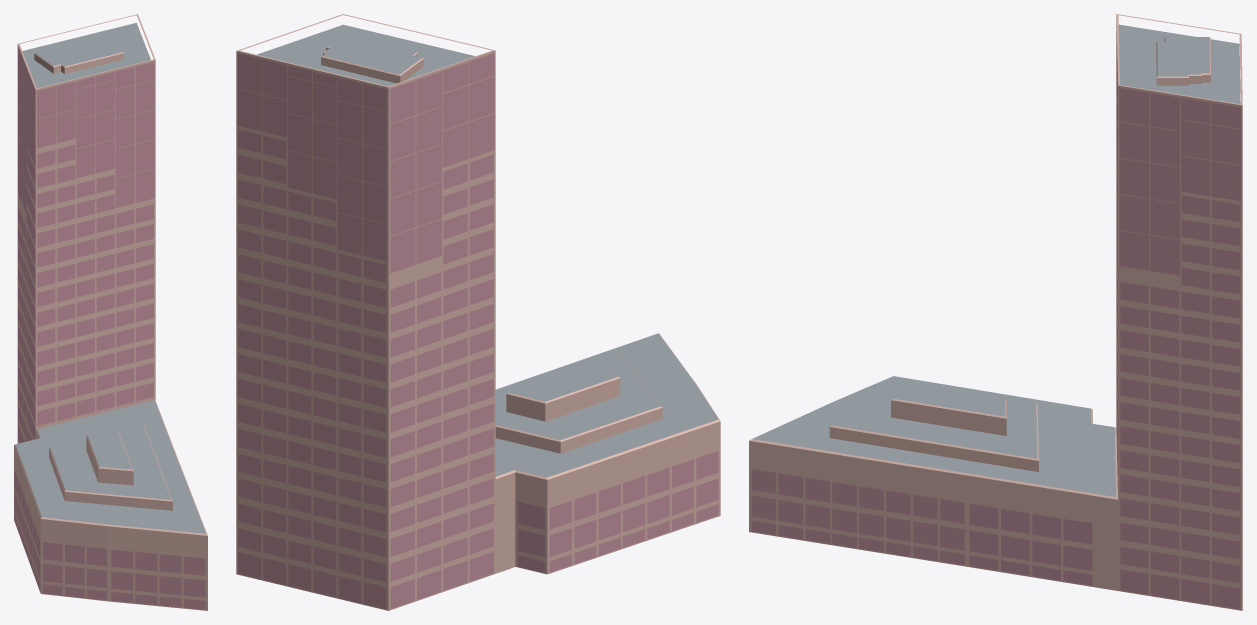
Rendered from pdx-us-bancorp-tower.glb.
The picture shows the model from 3 angles, left to right: view 1: azimuth 30°, elevation 25°; view 2: azimuth 150°, elevation 25°; view 3: azimuth 270°, elevation 25°; orthographic projection. The views are drawn at different scales.
Parts seen in each view (by area): view 1: U.S. Bancorp Tower; view 2: U.S. Bancorp Tower; view 3: U.S. Bancorp Tower.
Boxes of the visible parts, <box> form: U.S. Bancorp Tower: <box>14,14,207,610</box>; U.S. Bancorp Tower: <box>236,14,720,610</box>; U.S. Bancorp Tower: <box>749,14,1242,610</box>.
Size of the model in its own units: 99.1 by 163 by 145.
